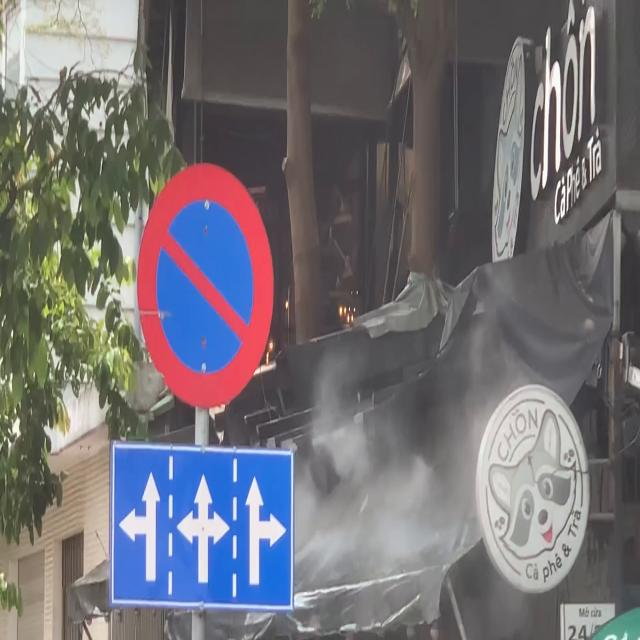Cam do: (136, 160, 275, 411)
